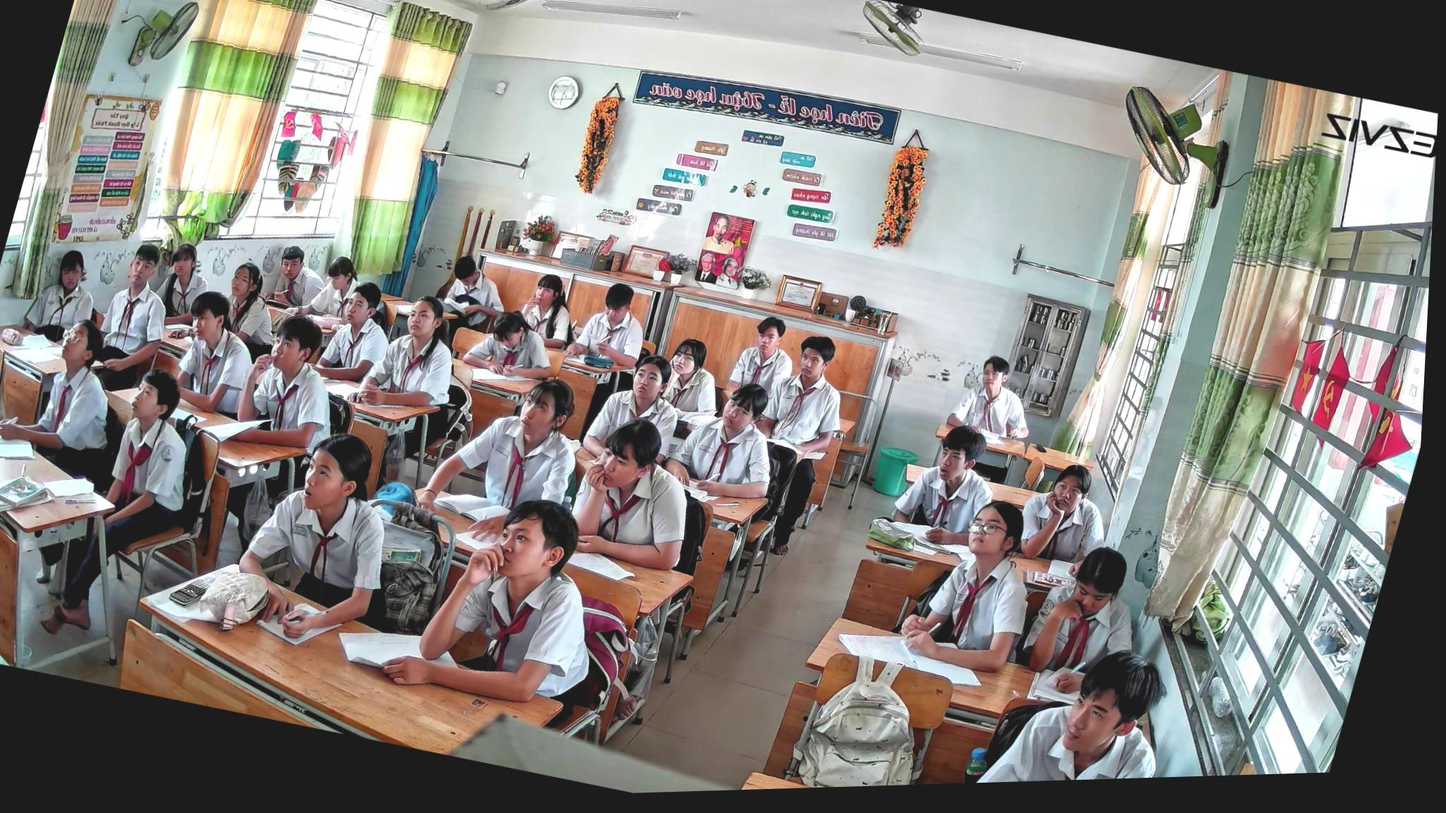person: (369, 471, 636, 735), (35, 355, 223, 653), (219, 413, 435, 661), (200, 301, 362, 551), (407, 353, 603, 558), (958, 624, 1190, 783), (720, 325, 865, 561), (891, 484, 1059, 680), (326, 282, 476, 492), (0, 302, 150, 498), (557, 405, 716, 579), (1010, 532, 1162, 710), (655, 366, 798, 506), (884, 412, 1013, 556), (82, 237, 189, 401), (577, 343, 696, 472), (162, 285, 273, 422), (0, 238, 119, 363), (1009, 453, 1127, 576), (310, 274, 408, 392), (942, 346, 1048, 446), (561, 273, 661, 376), (719, 309, 806, 418), (459, 300, 565, 387), (208, 258, 293, 362), (135, 236, 220, 339), (285, 246, 370, 335), (653, 333, 735, 421), (435, 250, 518, 336), (509, 268, 588, 356), (262, 241, 338, 322)
